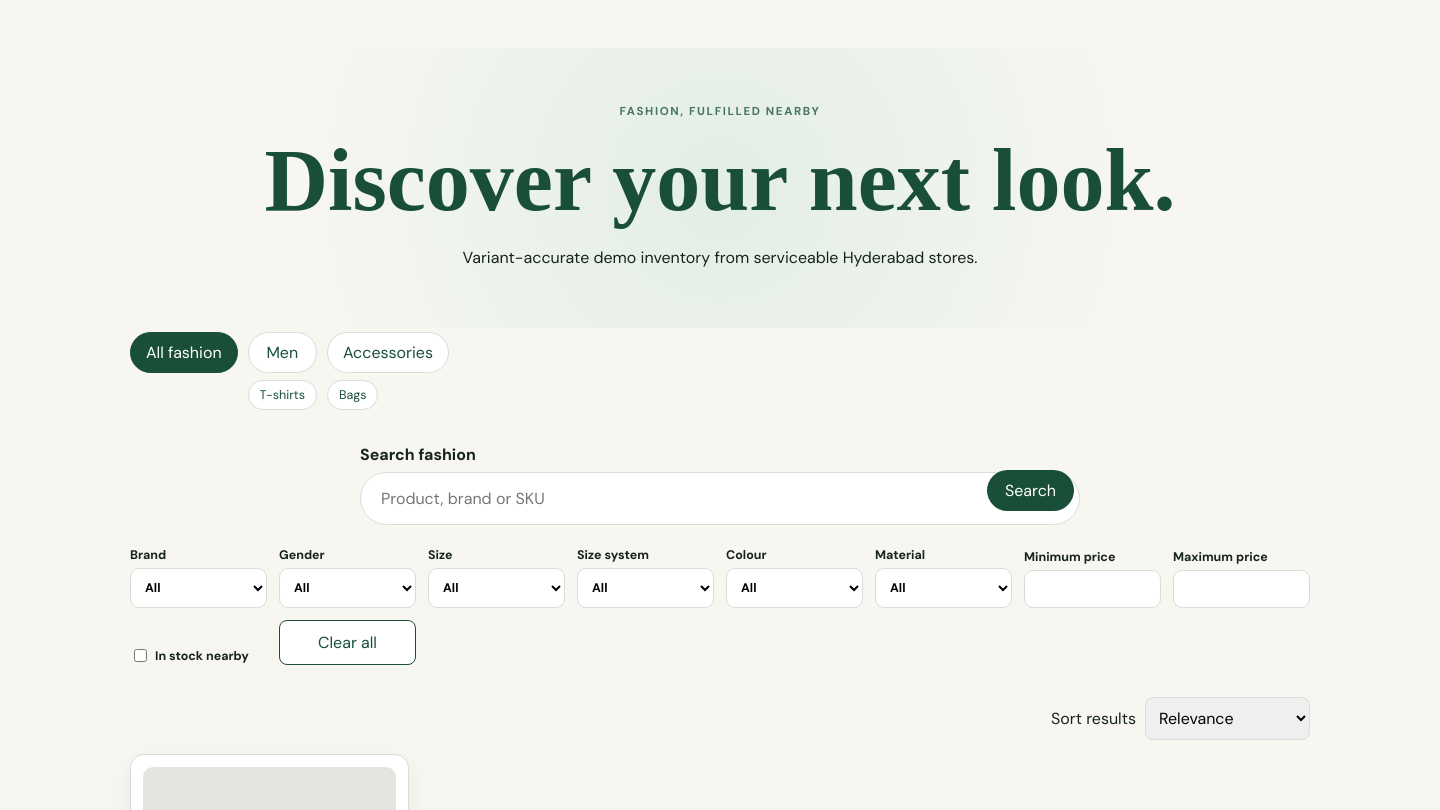
it: completed discovery experience › hides size controls when the selected category has no sizes
Click the button "Bags" at (353, 395), box [327, 380, 378, 410]
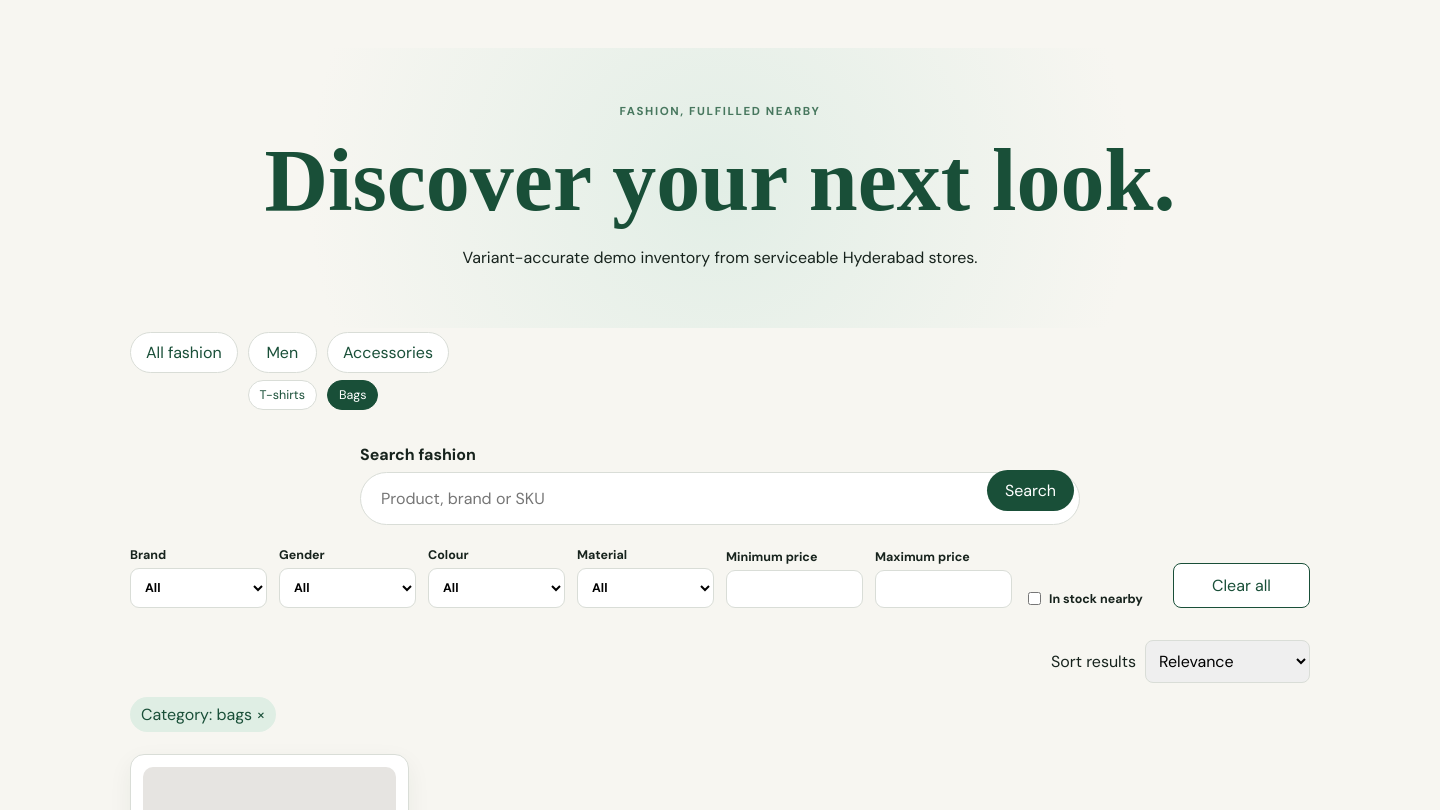
Result: the label labelled "Size" is gone
Result: the label labelled "Size system" is gone
